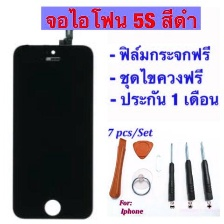phone: (9, 42, 95, 221)
